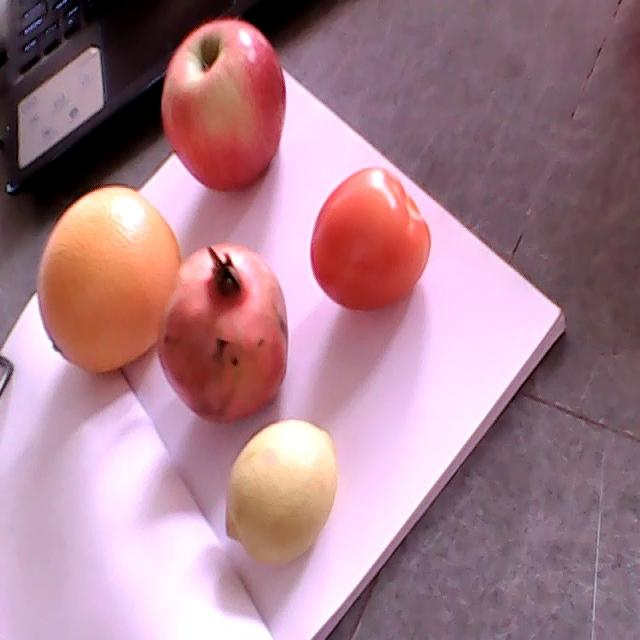apple: (159, 21, 285, 196)
lemon: (225, 419, 337, 565)
orange: (34, 188, 181, 373)
pomegranate: (157, 244, 288, 425)
tomato: (309, 164, 429, 311)
